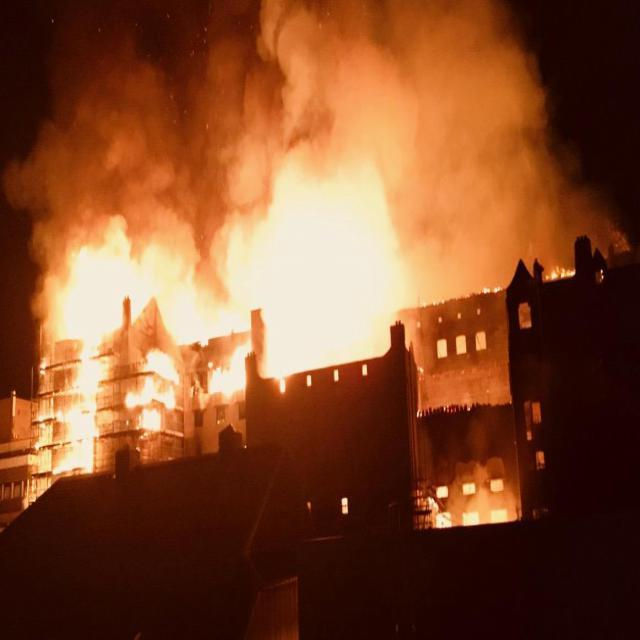Fire: (42, 222, 247, 456), (262, 206, 388, 362), (432, 474, 510, 530)
